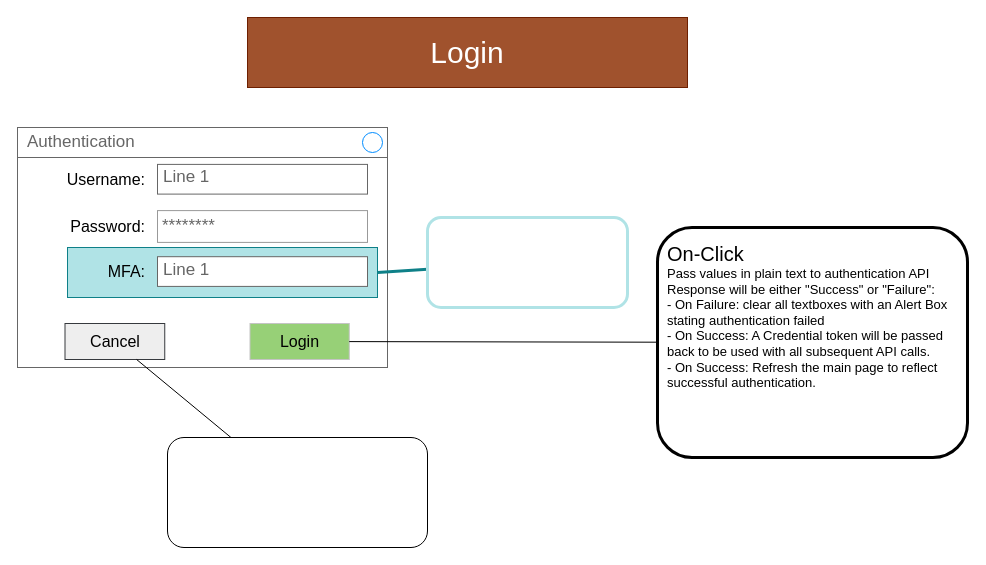
Some shapes in this 986 by 565 pixel diagram are drawn without their labels. The centre of each missing label's shape, as x and y in pixels:
On-Click - Clear all Textboxes - Purge any cached information - Close Dialog Box: (x=297, y=492)
Optional Visibility will be part of the setup of the Dialog box when loaded: (x=527, y=262)
